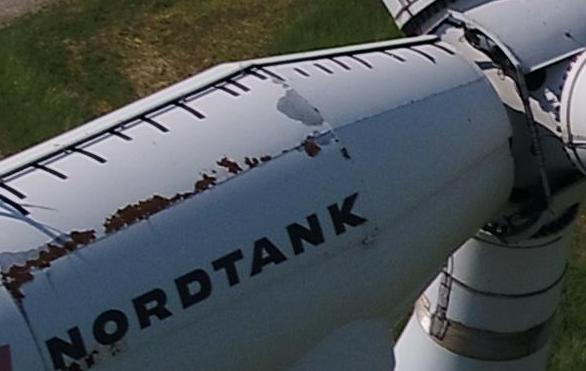damage: (0, 227, 96, 301), (104, 194, 173, 235), (275, 88, 324, 127), (173, 169, 216, 200), (217, 156, 242, 174), (302, 138, 321, 156), (84, 349, 100, 368), (242, 156, 259, 168), (64, 361, 81, 371), (259, 155, 272, 163)
